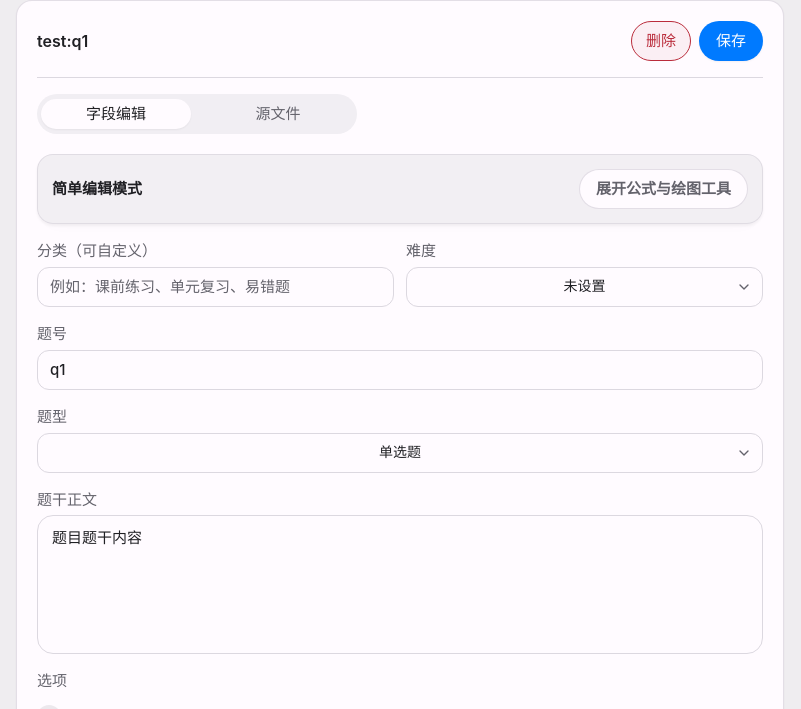
BankQuestionEditorPanel User Journeys › Editor Toolbar Mode Toggle › toggles between simple and advanced tools mode smoothly
This screenshot has width=801, height=709.
Expected: the text "简单编辑模式" is shown, [52, 178, 142, 200]
Click the button "展开公式与绘图工具" at (664, 189), box [579, 169, 748, 209]
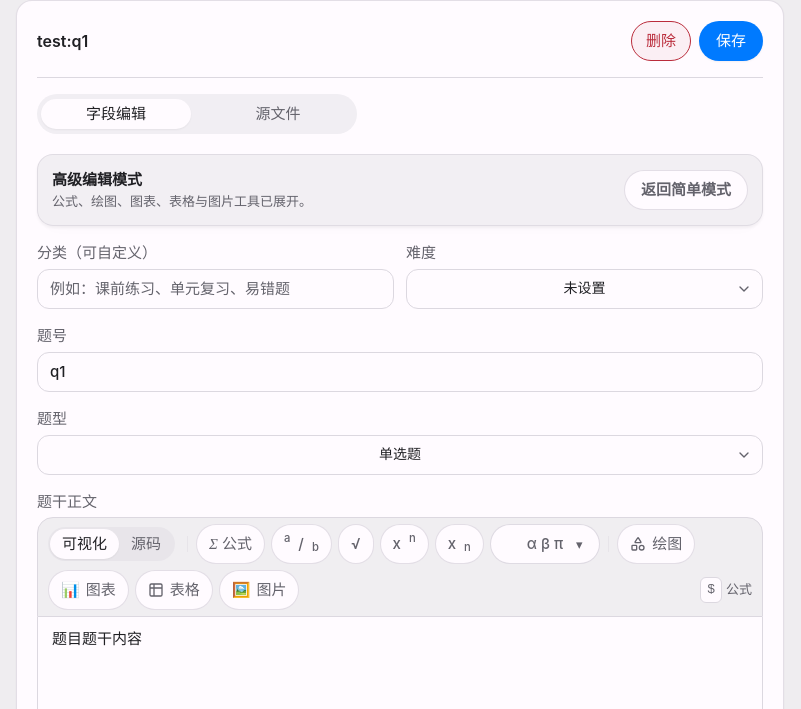
Expected: the text "高级编辑模式" is shown, [52, 170, 142, 189]
Expected: the text "公式、绘图、图表、表格与图片工具已展开。" is shown, [52, 192, 312, 211]
Expected: the button "返回简单模式" is shown
Click the button "返回简单模式" at (686, 190), box [624, 170, 748, 210]
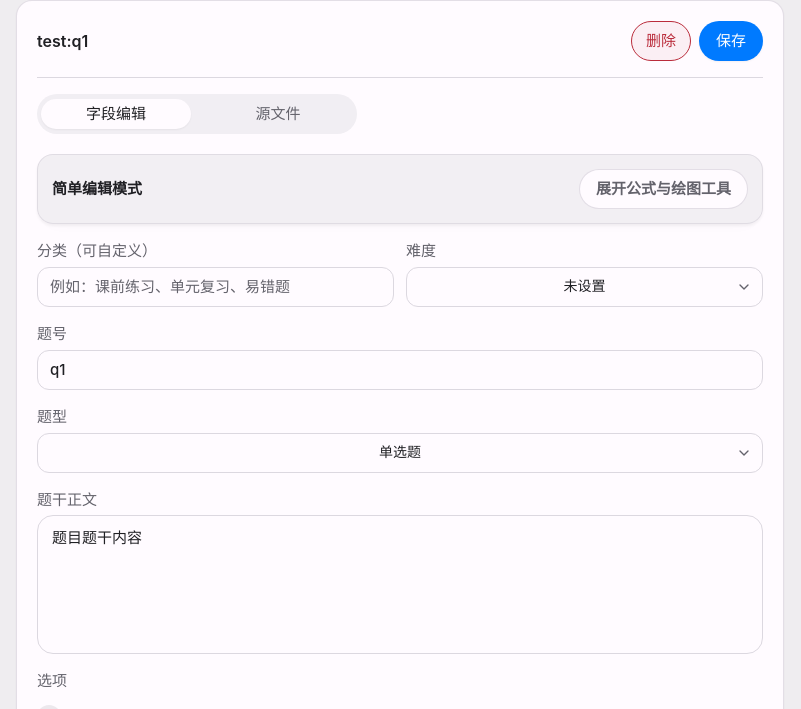
Expected: the text "简单编辑模式" is shown, [52, 178, 142, 200]
